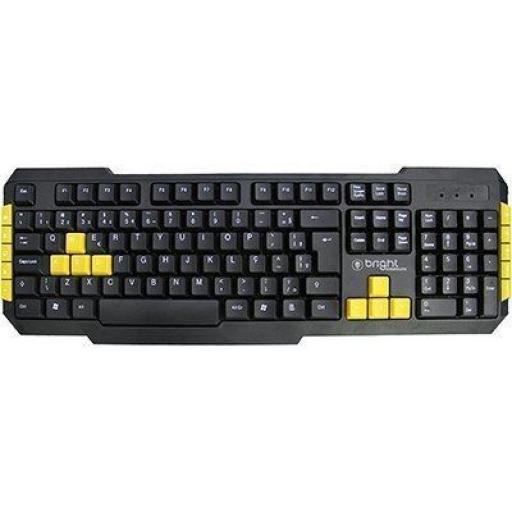keyboard: (3, 160, 511, 358)
